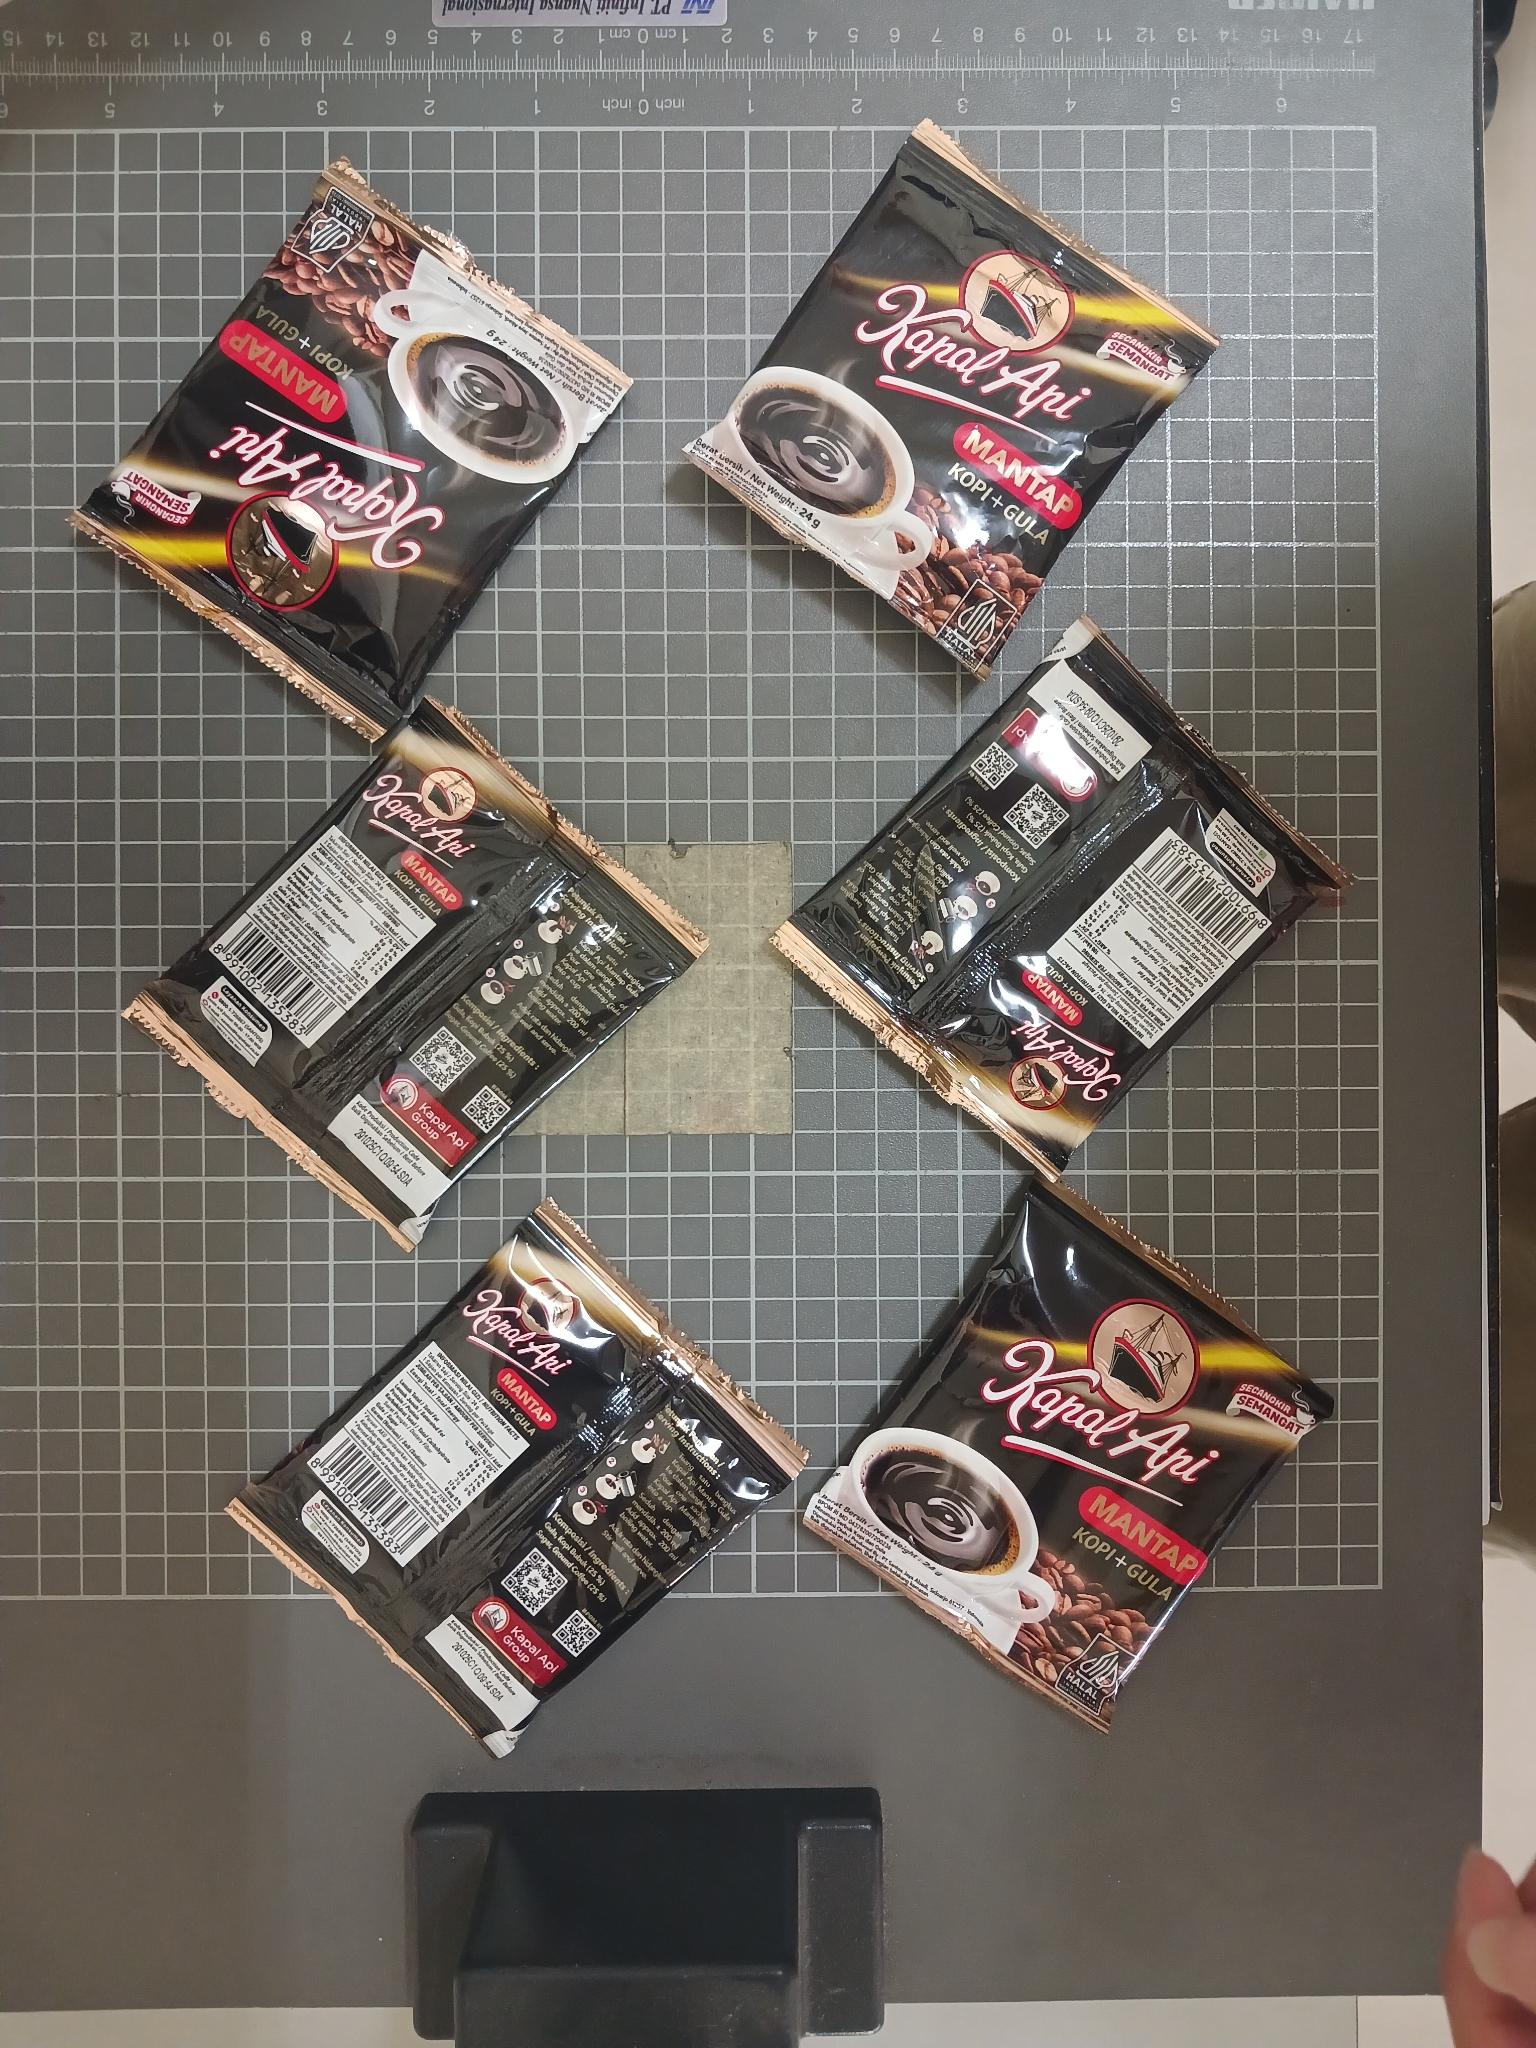back: (763, 611, 1360, 1188), (226, 1190, 815, 1764), (121, 689, 715, 1255)
front: (60, 155, 639, 748), (795, 1164, 1349, 1737), (678, 114, 1228, 685)
